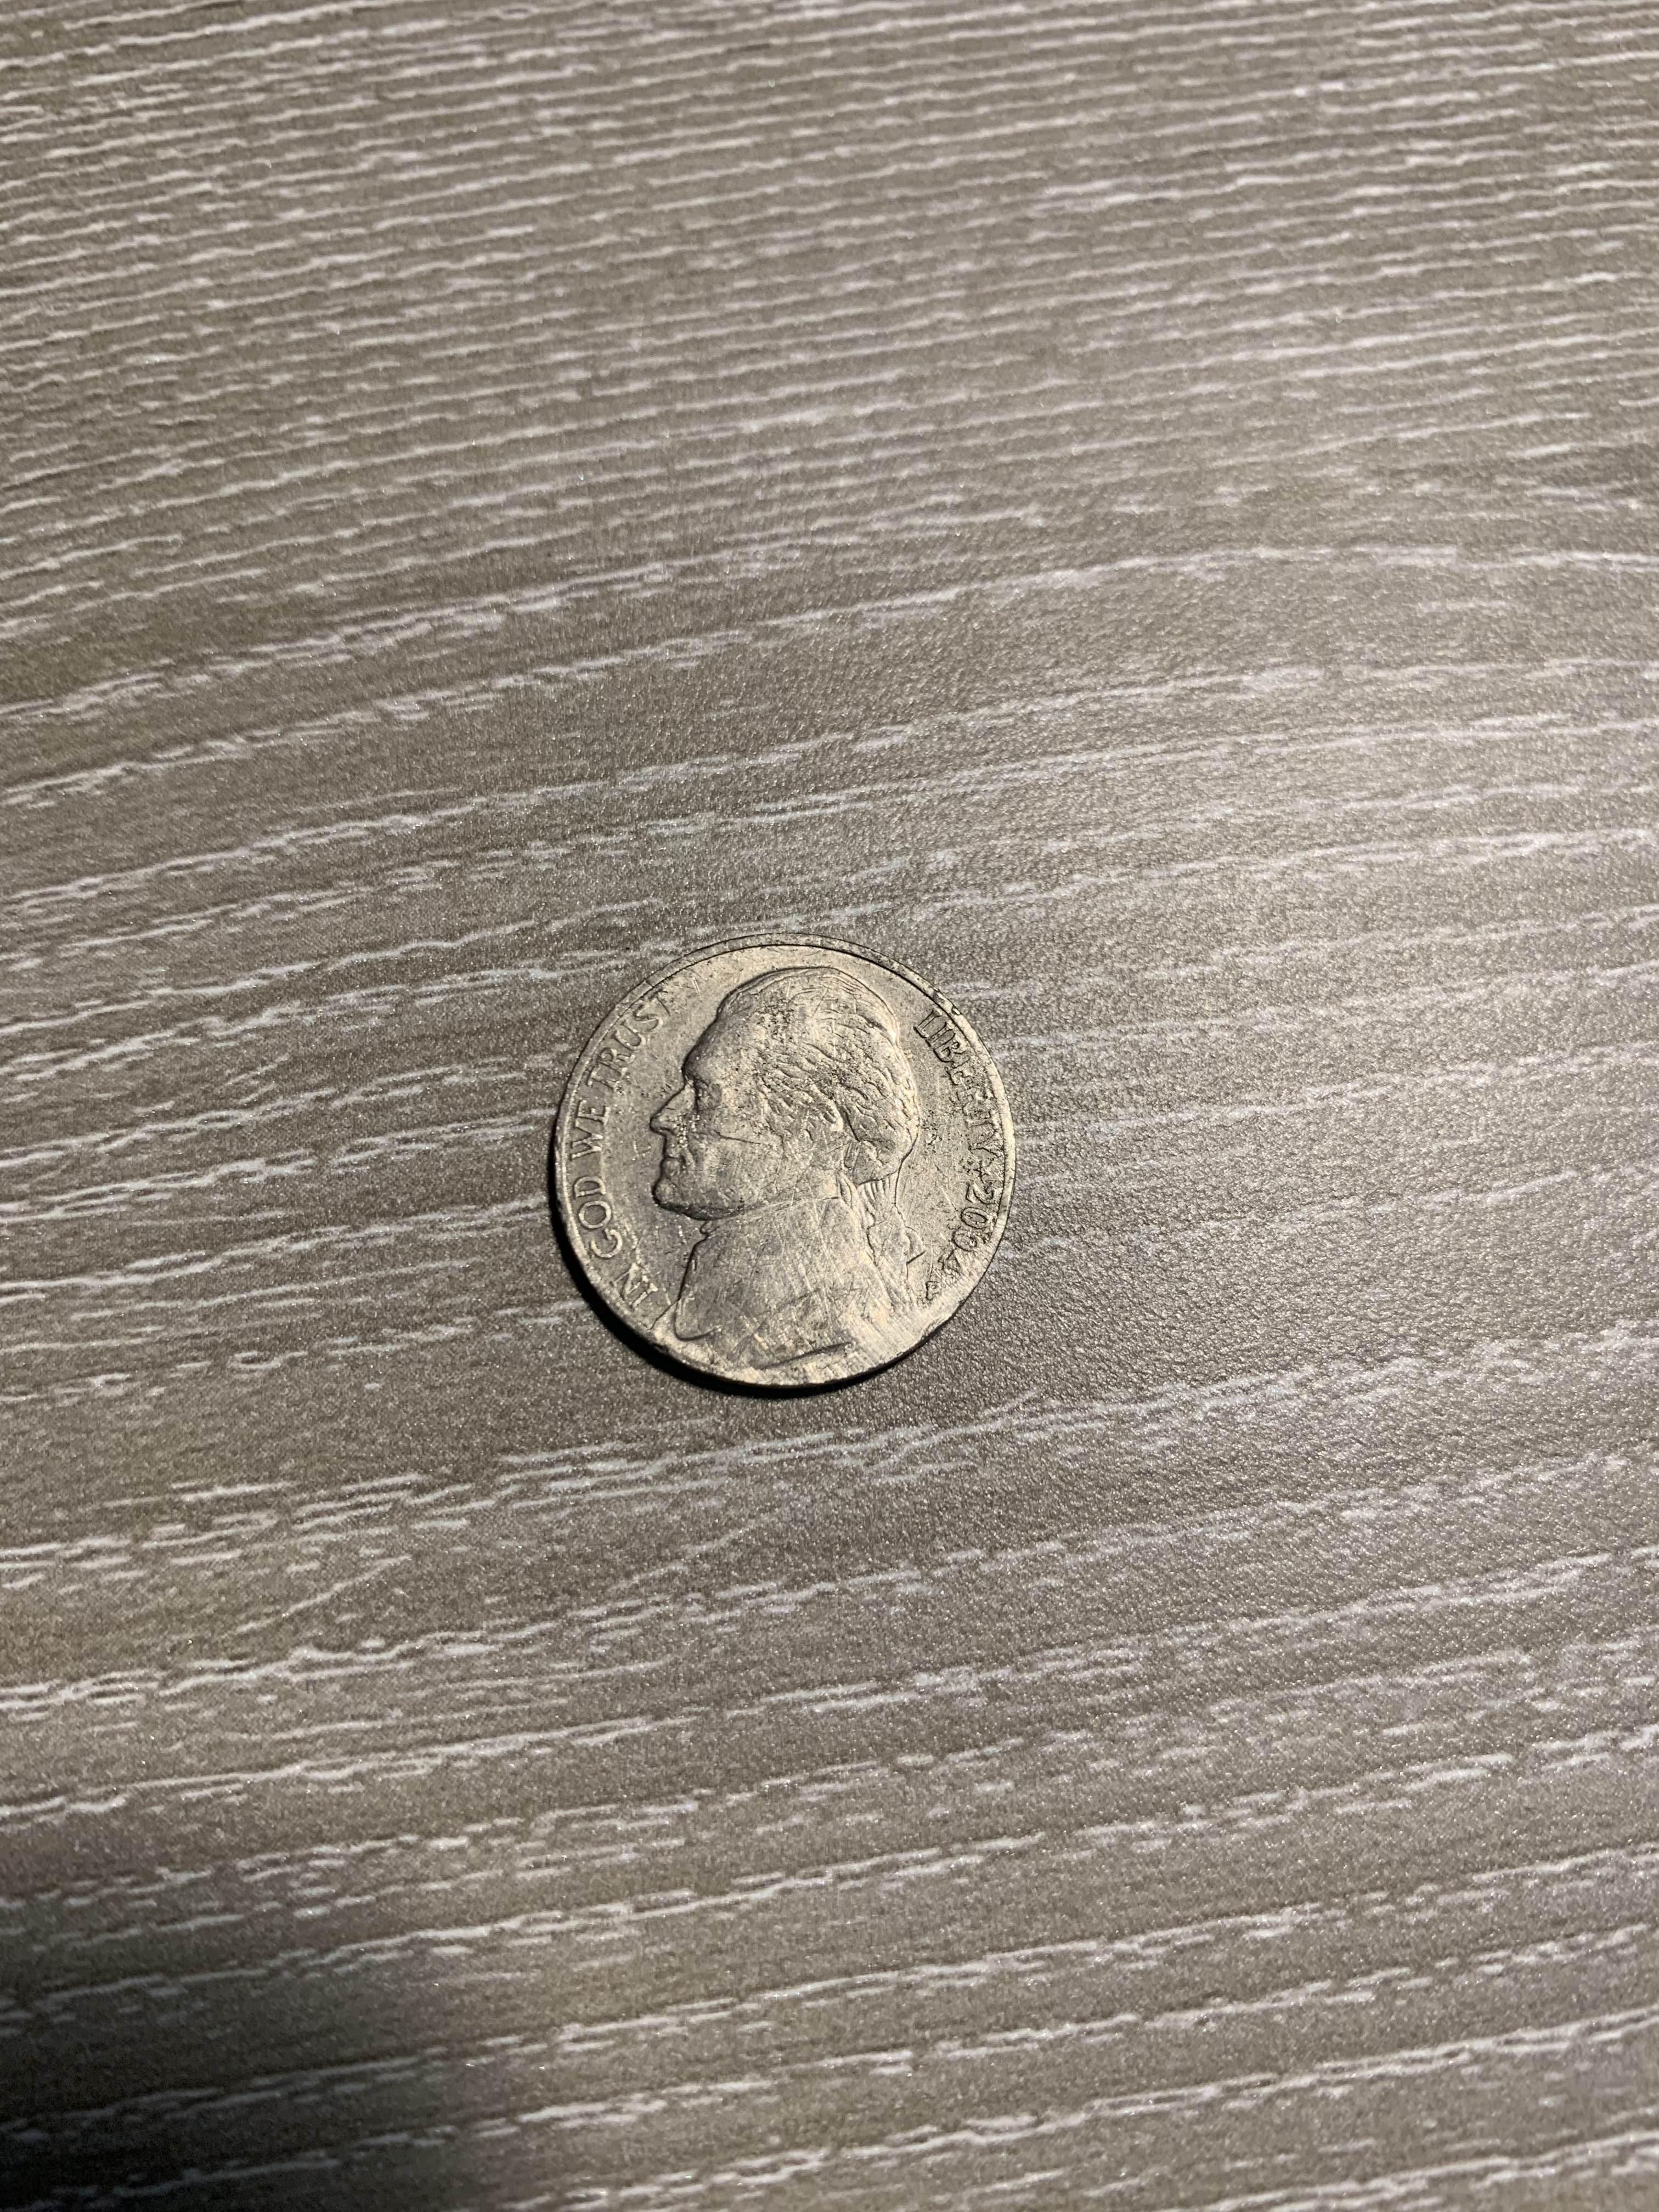Nickel: (528, 921, 1025, 1402)
